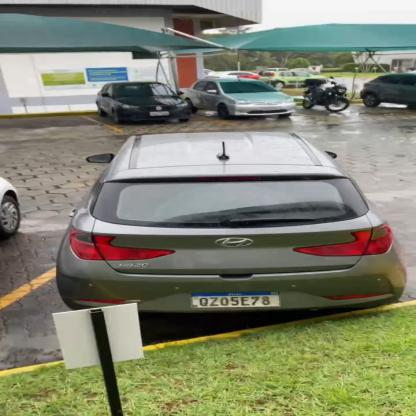Plate: (190, 290, 287, 309)
